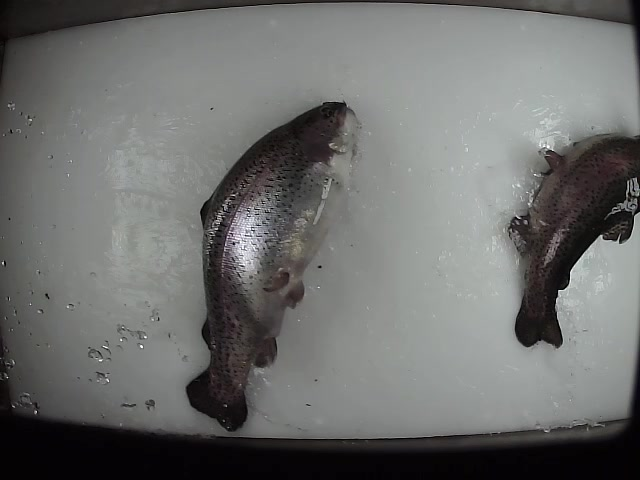Fish: (184, 101, 360, 431)
